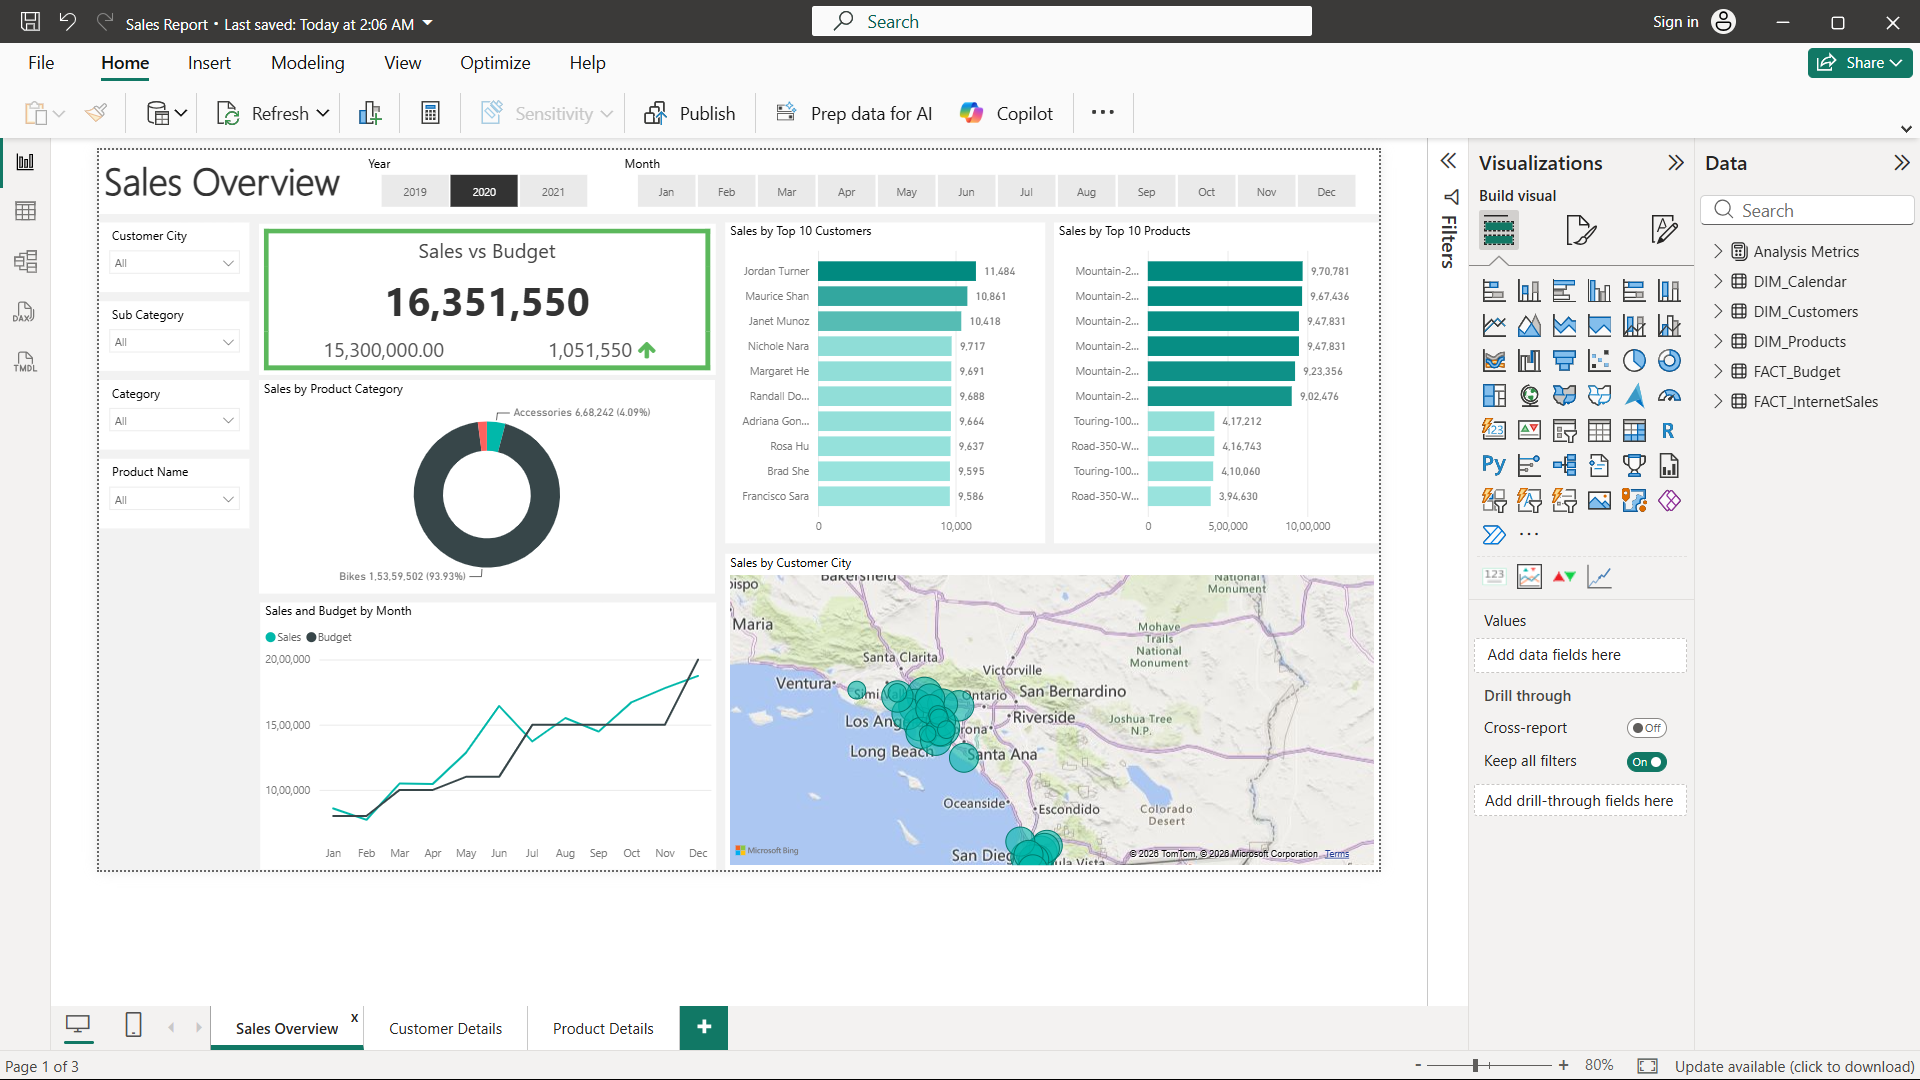

The page's visual inventory and layout, read from the dashboard file:
{"tool":"powerbi","page":{"name":"Sales Overview","canvas":[1280,720],"ordinal":0},"visuals":[{"type":"textbox","box":[0,0,1280,64],"z":0},{"type":"slicer","fields":{"Values":["DIM_Calendar.Year"]},"box":[256,0,256,64],"z":1000},{"type":"slicer","fields":{"Values":["DIM_Calendar.MonthShort"]},"box":[512,0,768,64],"z":2000},{"type":"slicer","fields":{"Values":["DIM_Customers.Customer City"]},"box":[0,73,150.5,69.3],"z":3000},{"type":"slicer","fields":{"Values":["DIM_Products.Product Category"]},"box":[0,229.9,150.5,69.3],"z":4000},{"type":"slicer","fields":{"Values":["DIM_Products.Product Name"]},"box":[0,308.4,150.5,69.3],"z":5000},{"type":"slicer","fields":{"Values":["DIM_Products.Sub Category"]},"box":[0,151.4,150.5,69.3],"z":6000},{"type":"barChart","title":"Sales by Top 10 Products","fields":{"Category":["DIM_Products.Product Name"],"Y":["Analysis Metrics.Sales"]},"box":[955.2,73,324.8,321.1],"z":7000},{"type":"lineChart","fields":{"Category":["DIM_Calendar.MonthShort"],"Y":["Analysis Metrics.Sales","Analysis Metrics.Budget"]},"box":[160.7,452.8,456.3,267.2],"z":8000},{"type":"barChart","title":"Sales by Top 10 Customers","fields":{"Category":["DIM_Customers.Full Name"],"Y":["Analysis Metrics.Sales"]},"box":[625.9,73,320.2,321.1],"z":9000},{"type":"donutChart","fields":{"Series":["DIM_Products.Product Category"],"Y":["Analysis Metrics.Sales"]},"box":[160.6,229.9,456.2,213.5],"z":10000},{"type":"map","fields":{"Category":["DIM_Customers.Customer City"],"Size":["Analysis Metrics.Sales"]},"box":[625.9,403.3,654.1,316.6],"z":12000},{"type":"BBED0A4D4D8D44CE93CF2DAFADEE466C","fields":{"actual":["Analysis Metrics.Sales"],"target2":["Analysis Metrics.Sales / Budget"],"target1":["Analysis Metrics.Budget"]},"box":[160.5,73.4,456.6,151.3],"z":13001}]}

Visuals, with their boxes on the page's 1280x720 design canvas (x1, y1, x2, y2). These are canvas units, not pixel positions in the 1920x1080 screenshot, which may show the page scaled, cropped or inside an application window:
textbox: box=[0, 0, 1280, 64]
slicer - DIM_Calendar.Year: box=[256, 0, 512, 64]
slicer - DIM_Calendar.MonthShort: box=[512, 0, 1280, 64]
slicer - DIM_Customers.Customer City: box=[0, 73, 150, 142]
slicer - DIM_Products.Product Category: box=[0, 230, 150, 299]
slicer - DIM_Products.Product Name: box=[0, 308, 150, 378]
slicer - DIM_Products.Sub Category: box=[0, 151, 150, 221]
"Sales by Top 10 Products" barChart: box=[955, 73, 1280, 394]
lineChart - DIM_Calendar.MonthShort x Analysis Metrics.Sales: box=[161, 453, 617, 720]
"Sales by Top 10 Customers" barChart: box=[626, 73, 946, 394]
donutChart - DIM_Products.Product Category x Analysis Metrics.Sales: box=[161, 230, 617, 443]
map - DIM_Customers.Customer City x Analysis Metrics.Sales: box=[626, 403, 1280, 720]
BBED0A4D4D8D44CE93CF2DAFADEE466C - Analysis Metrics.Sales x Analysis Metrics.Sales / Budget: box=[160, 73, 617, 225]
